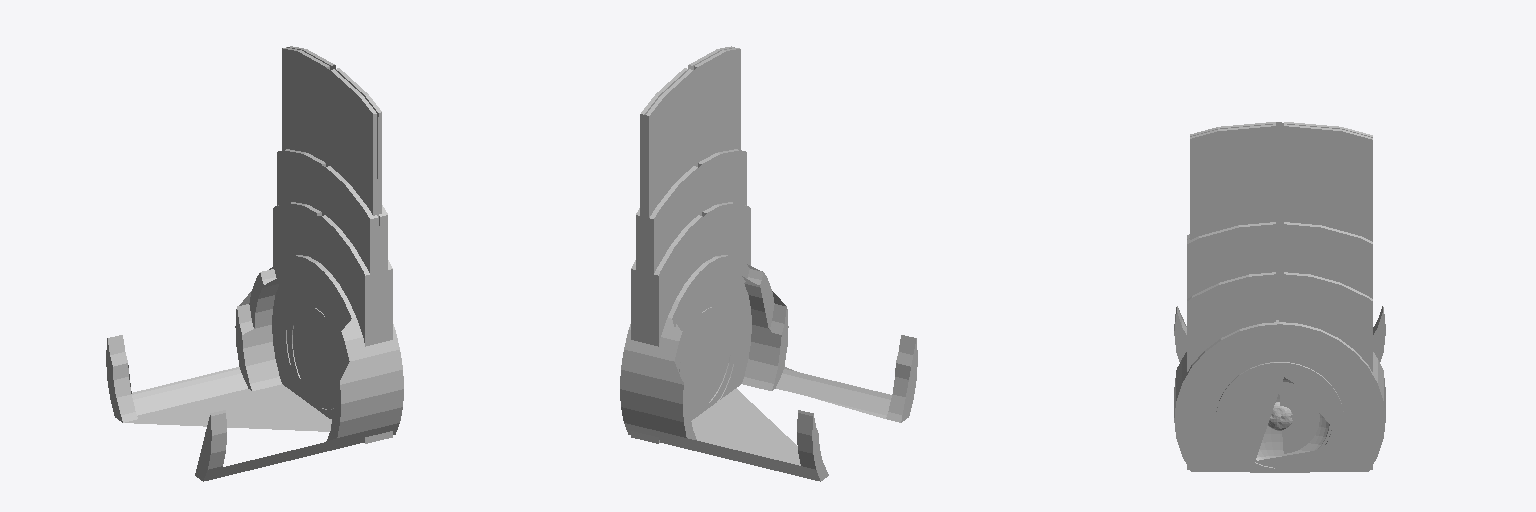
File: soloTorre.obj
The picture shows the model from 3 angles: view 1: azimuth 30°, elevation 25°; view 2: azimuth 150°, elevation 25°; view 3: azimuth 270°, elevation 25°; orthographic projection.
Parts seen in each view (by area): view 1: Cylinder.004_Cylinder.005; view 2: Cylinder.004_Cylinder.005; view 3: Cylinder.004_Cylinder.005.
Part boxes in pixels (left/top/right/bottom): Cylinder.004_Cylinder.005: left=106, top=46, right=403, bottom=481; Cylinder.004_Cylinder.005: left=620, top=46, right=917, bottom=481; Cylinder.004_Cylinder.005: left=1174, top=122, right=1385, bottom=472.
Size of the model in its own units: 42.39 by 70.8 by 40.